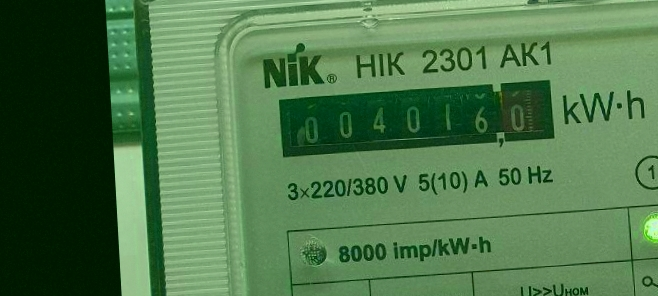0: (402, 101, 424, 137), (300, 112, 323, 146), (335, 107, 356, 142), (506, 100, 527, 133)
1: (439, 98, 456, 133)
4: (369, 102, 388, 137)
6: (470, 101, 490, 134)
screen: (271, 72, 563, 165)
